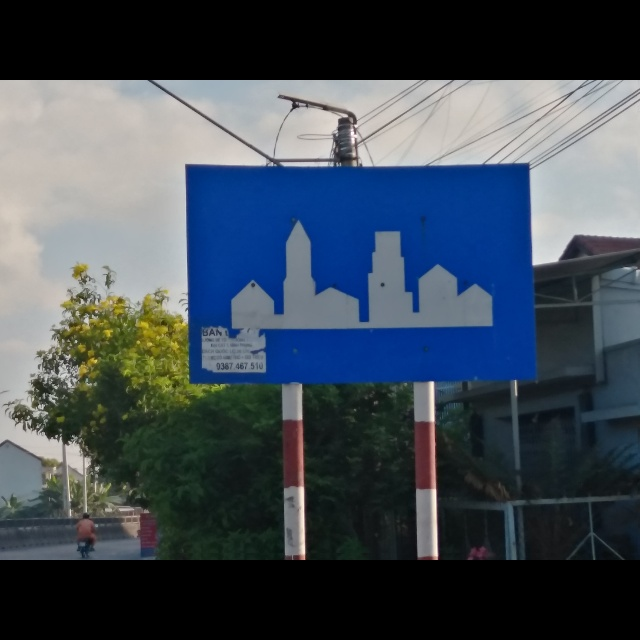Khu đông dân cư: (186, 161, 537, 382)
